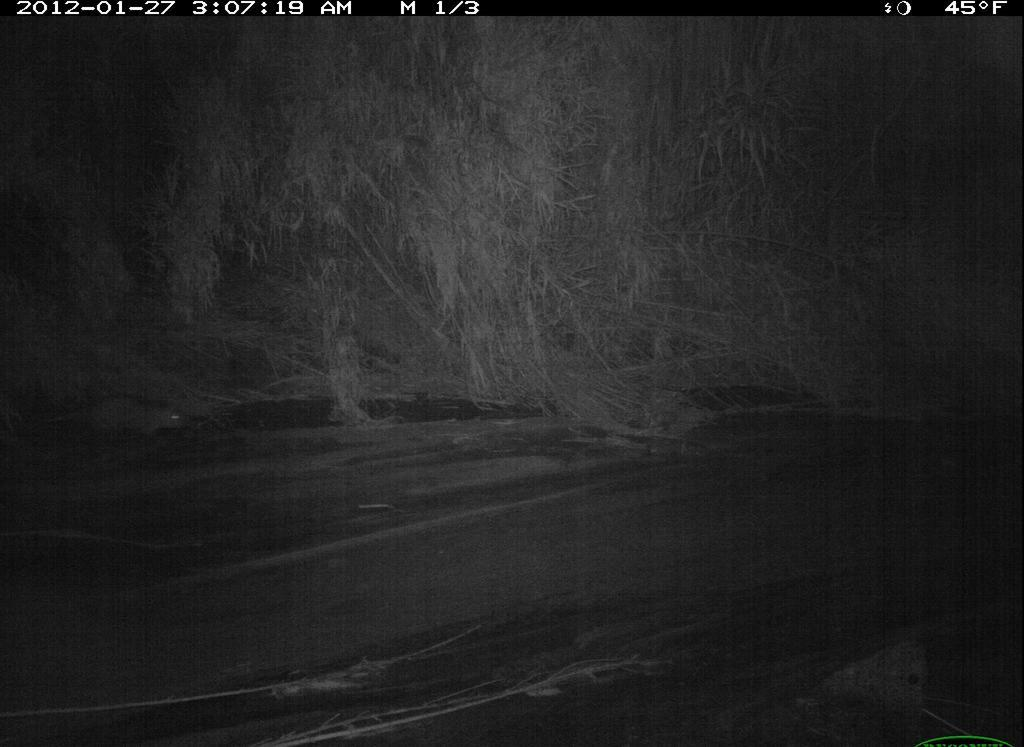opossum: (34, 368, 201, 459)
